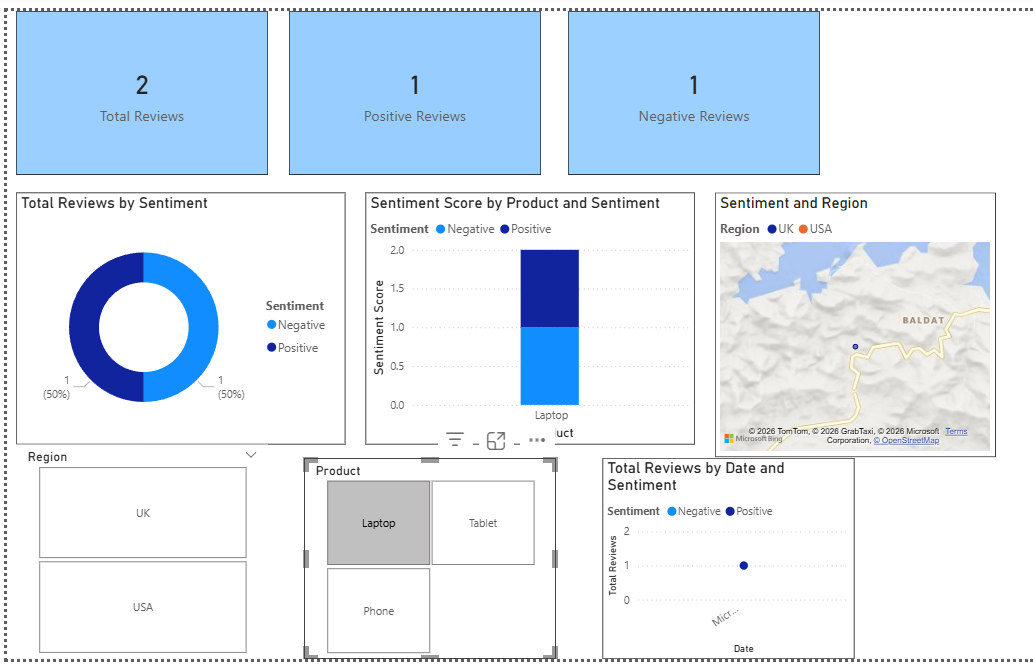

Layout of this report page (visuals, bound fields, positions):
{"tool":"powerbi","page":{"name":"Page 1","canvas":[1280,720],"ordinal":0},"visuals":[{"type":"card","fields":{"Values":["FactReviews.Total Reviews"]},"box":[10,0,280,182],"z":0},{"type":"card","fields":{"Values":["FactReviews.Positive Reviews"]},"box":[314,0,280,182],"z":1},{"type":"card","fields":{"Values":["FactReviews.Negative Reviews"]},"box":[624,0,280,182],"z":2},{"type":"donutChart","fields":{"Category":["FactReviews.Sentiment"],"Y":["FactReviews.Total Reviews"]},"box":[10,202,366,280],"z":3},{"type":"columnChart","fields":{"Category":["FactReviews.Product"],"Series":["FactReviews.Sentiment"],"Y":["FactReviews.Sentiment Score"]},"box":[398,202,366,280],"z":5},{"type":"lineChart","fields":{"Category":["FactReviews.Date"],"Y":["FactReviews.Total Reviews"],"Series":["FactReviews.Sentiment"]},"box":[661.7,496.7,280,223.3],"z":6},{"type":"map","fields":{"Series":["FactReviews.Region"],"Category":["FactReviews.Sentiment"]},"box":[786,202,312,294],"z":7},{"type":"slicer","fields":{"Values":["FactReviews.Region"]},"box":[10,481.7,280,238.3],"z":8},{"type":"slicer","fields":{"Values":["FactReviews.Product"]},"box":[330,496.7,280,223.3],"z":9}]}

Visuals, with their boxes on the page's 1280x720 design canvas (x1, y1, x2, y2). These are canvas units, not pixel positions in the 1033x666 screenshot, which may show the page scaled, cropped or inside an application window:
card - FactReviews.Total Reviews: bbox(10, 0, 290, 182)
card - FactReviews.Positive Reviews: bbox(314, 0, 594, 182)
card - FactReviews.Negative Reviews: bbox(624, 0, 904, 182)
donutChart - FactReviews.Sentiment x FactReviews.Total Reviews: bbox(10, 202, 376, 482)
columnChart - FactReviews.Product x FactReviews.Sentiment: bbox(398, 202, 764, 482)
lineChart - FactReviews.Date x FactReviews.Total Reviews: bbox(662, 497, 942, 720)
map - FactReviews.Region x FactReviews.Sentiment: bbox(786, 202, 1098, 496)
slicer - FactReviews.Region: bbox(10, 482, 290, 720)
slicer - FactReviews.Product: bbox(330, 497, 610, 720)
